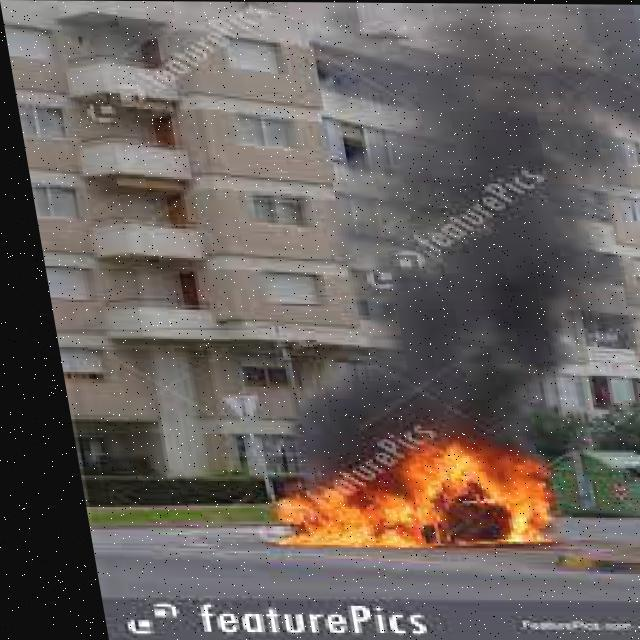Fire: (232, 418, 563, 553)
